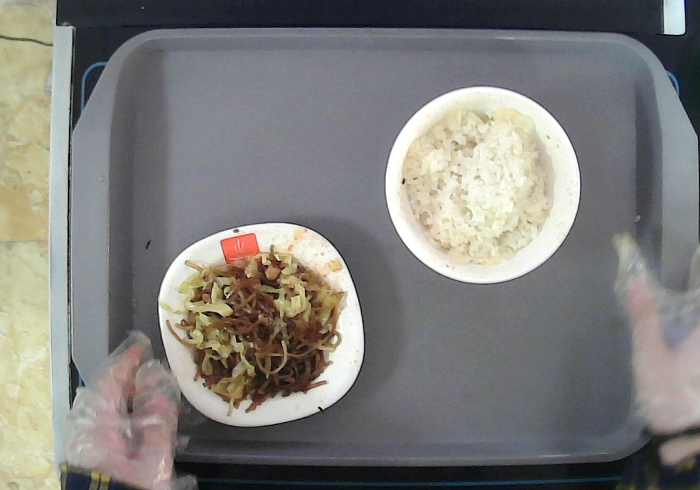SHKJ-Bai_Se_Si_Fang_Cai_Die: (153, 222, 367, 428)
SHKJ-Fan_Wan: (384, 82, 584, 286)
